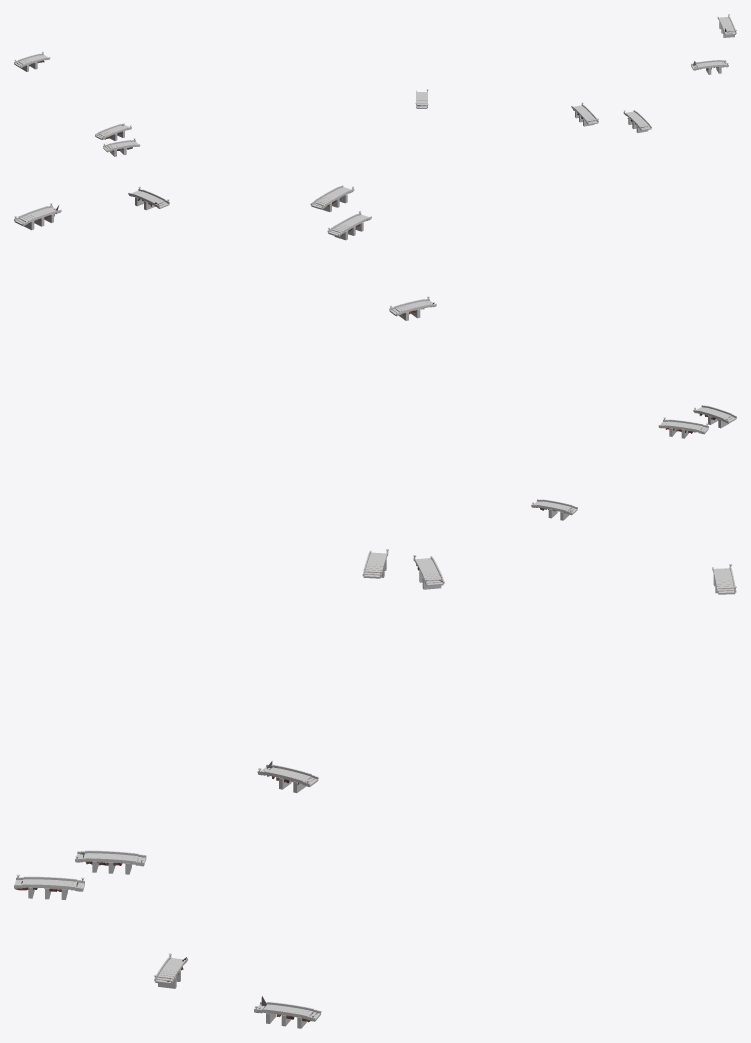
Rendered from Dungeon-3C-Bridges.fbx.
3 views of the same model, one above another, from view 1: azimuth 30°, elevation 25°; view 2: azimuth 150°, elevation 25°; view 3: azimuth 270°, elevation 25° (orthographic). The views are drawn at different scales.
Parts seen in each view (by area): view 1: Dungeon-3C-Bridges-f2, Dungeon-3C-Bridges-f6, Dungeon-3C-Bridges-f1, Dungeon-3C-Bridges-f5, Dungeon-3C-Bridges-f7, Dungeon-3C-Bridges-f3, Dungeon-3C-Bridges-f4; view 2: Dungeon-3C-Bridges-f4, Dungeon-3C-Bridges-f1, Dungeon-3C-Bridges-f2, Dungeon-3C-Bridges-f6, Dungeon-3C-Bridges-f0; view 3: Dungeon-3C-Bridges-f2, Dungeon-3C-Bridges-f1, Dungeon-3C-Bridges-f4, Dungeon-3C-Bridges-f0.
Part boxes in pixels (x1,y1,x2,y2): Dungeon-3C-Bridges-f2: (623,110,651,132); Dungeon-3C-Bridges-f6: (95,123,131,140); Dungeon-3C-Bridges-f1: (571,102,598,126); Dungeon-3C-Bridges-f5: (14,51,50,71); Dungeon-3C-Bridges-f7: (103,138,140,156); Dungeon-3C-Bridges-f3: (691,60,728,74); Dungeon-3C-Bridges-f4: (717,14,736,37); Dungeon-3C-Bridges-f4: (14,203,61,230); Dungeon-3C-Bridges-f1: (327,211,371,240); Dungeon-3C-Bridges-f2: (310,185,354,211); Dungeon-3C-Bridges-f6: (658,417,708,438); Dungeon-3C-Bridges-f0: (389,296,436,320); Dungeon-3C-Bridges-f2: (14,874,84,900); Dungeon-3C-Bridges-f1: (75,850,146,874); Dungeon-3C-Bridges-f4: (254,1002,321,1028); Dungeon-3C-Bridges-f0: (257,764,318,792).
Size of the model in its own units: 102 by 2.04 by 66.58.
